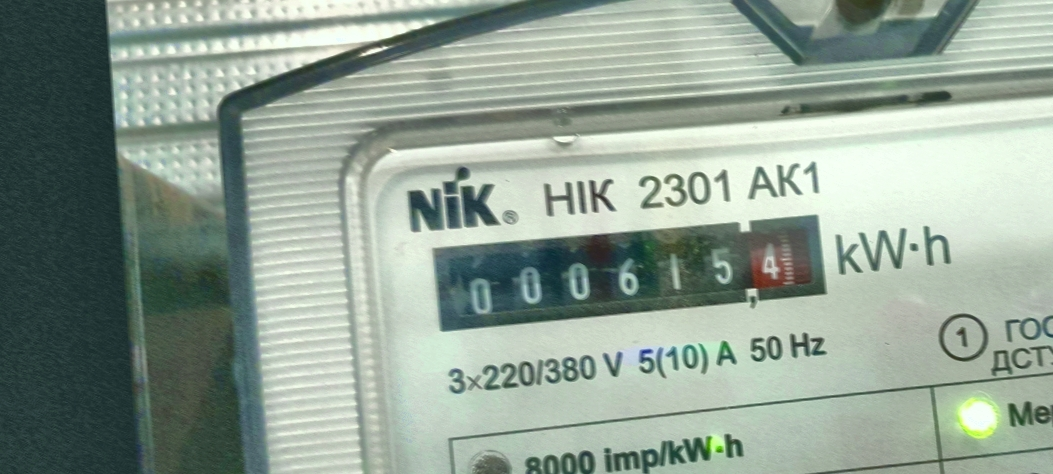0: (565, 257, 592, 301), (466, 272, 494, 314), (517, 262, 543, 303)
1: (667, 248, 683, 290)
4: (758, 238, 780, 279)
5: (709, 242, 735, 285)
6: (614, 253, 641, 295)
screen: (418, 200, 840, 342)
